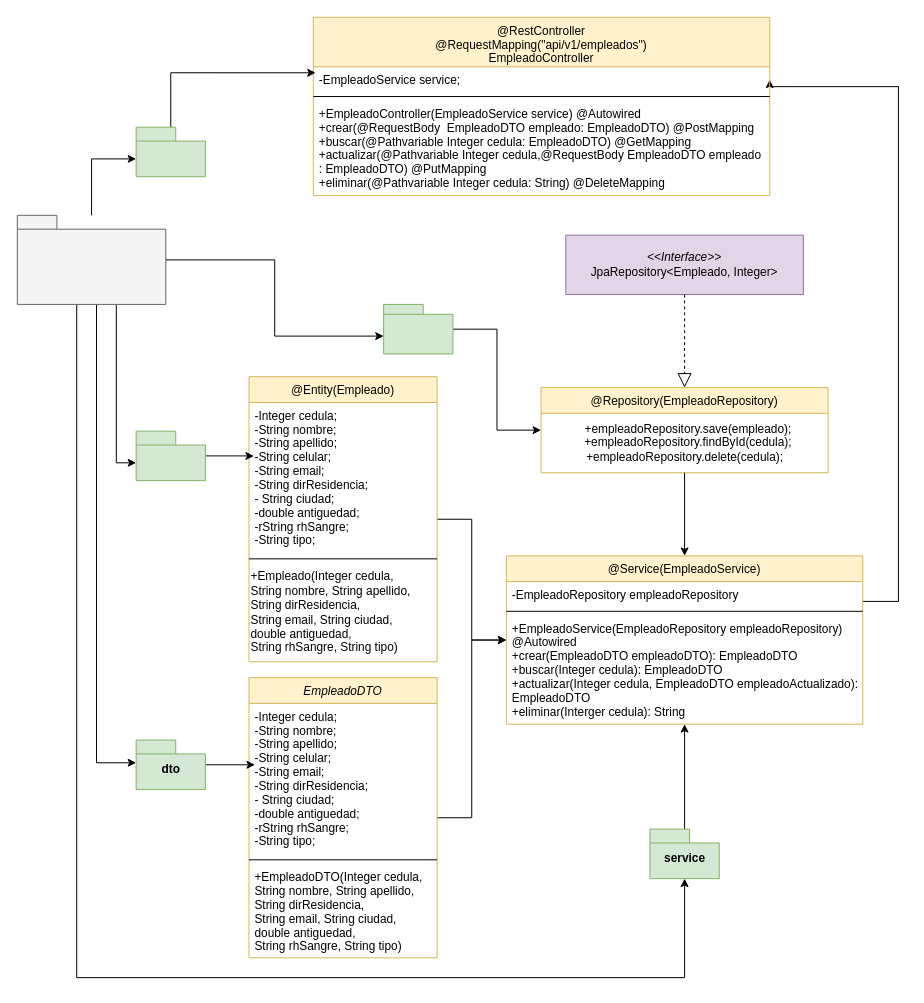
Some shapes in this 924 by 1003 pixel diagram are drawn without their labels. Here are the shapes that lost their labels. From the top down, the centre of each, then its label:
(x=170, y=151): controller
(x=91, y=259): mensajeria-api-java
(x=418, y=328): repository
(x=170, y=455): entity
